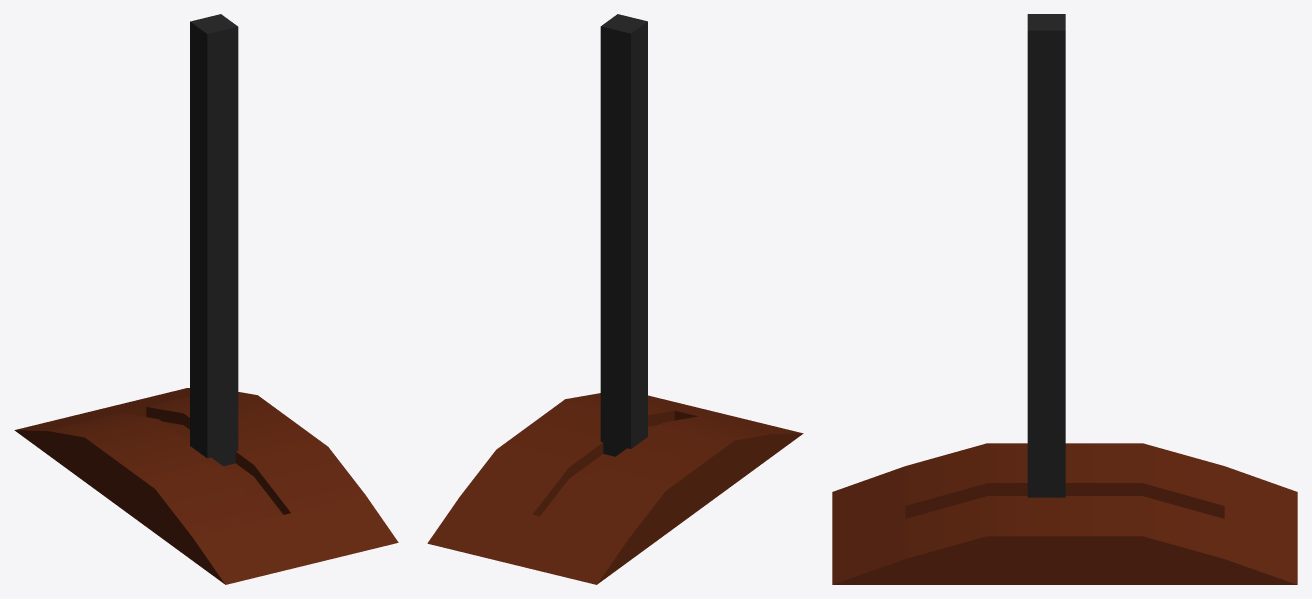
File: Switch.fbx
The picture shows the model from 3 angles, left to right: view 1: azimuth 30°, elevation 25°; view 2: azimuth 150°, elevation 25°; view 3: azimuth 270°, elevation 25°; orthographic projection. The views are drawn at different scales.
Visible parts, largest first — view 1: Base, Stick; view 2: Base, Stick; view 3: Base, Stick.
Part boxes in pixels (bbox=[...]): Base: bbox=[14, 388, 398, 584]; Stick: bbox=[190, 14, 238, 466]; Base: bbox=[427, 393, 803, 584]; Stick: bbox=[600, 14, 647, 456]; Base: bbox=[832, 443, 1297, 584]; Stick: bbox=[1027, 14, 1065, 497].
Size of the model in its own units: 0.939 by 2.43 by 1.99.
